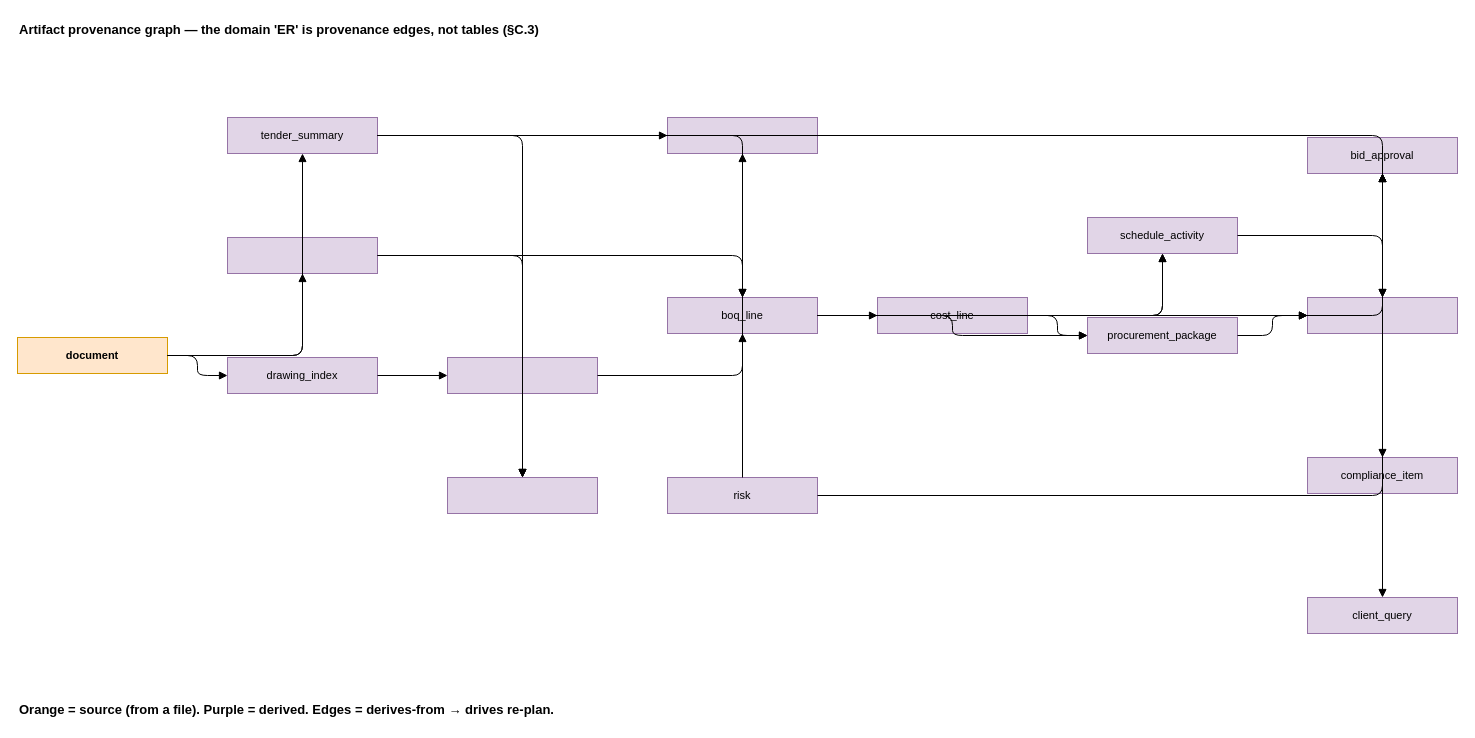
The diagram is 1475 pixels wide and 738 high, and some of its shapes have lost their labels. Each missing label, with the box of its shape:
bid_decision: (666, 116, 818, 154)
drawing_measurement: (446, 356, 598, 394)
proposal_doc: (1306, 296, 1458, 334)
rfi: (446, 476, 598, 514)
spec_clause: (226, 236, 378, 274)
